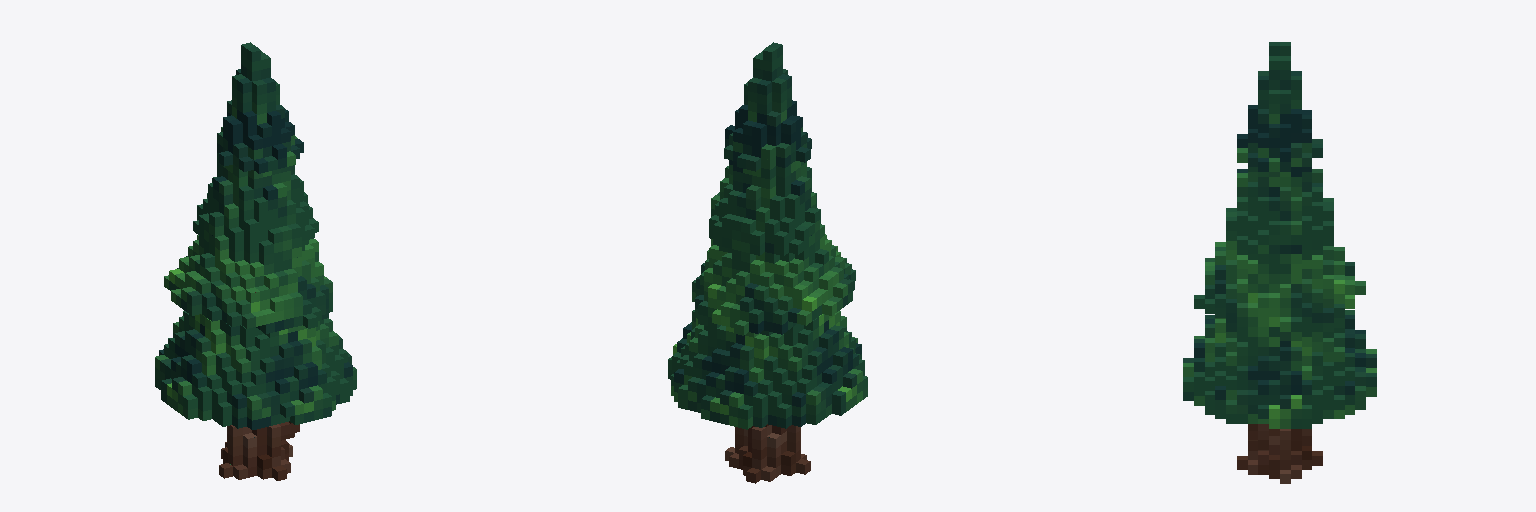
3 views of the same model, side by side, from view 1: azimuth 30°, elevation 25°; view 2: azimuth 150°, elevation 25°; view 3: azimuth 270°, elevation 25° (orthographic).
Visible parts, largest first — view 1: Conifer7; view 2: Conifer7; view 3: Conifer7.
Boxes of the visible parts, x1=… form: Conifer7: x1=155, y1=42, x2=356, y2=480; Conifer7: x1=668, y1=42, x2=867, y2=483; Conifer7: x1=1183, y1=42, x2=1376, y2=483.
Bounding box in the file's own units: 1.8 × 4.3 × 1.8.
Materials: 1 (1 with a texture image).